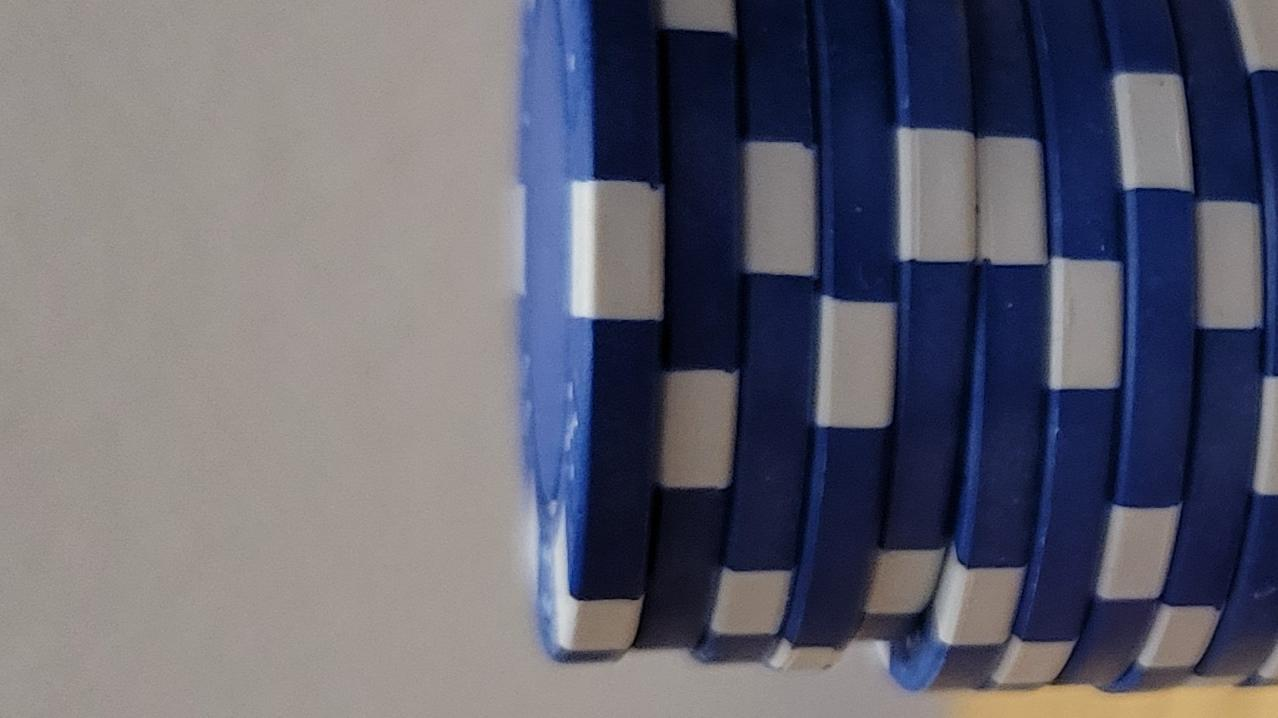Chip: (1, 354, 905, 718)
